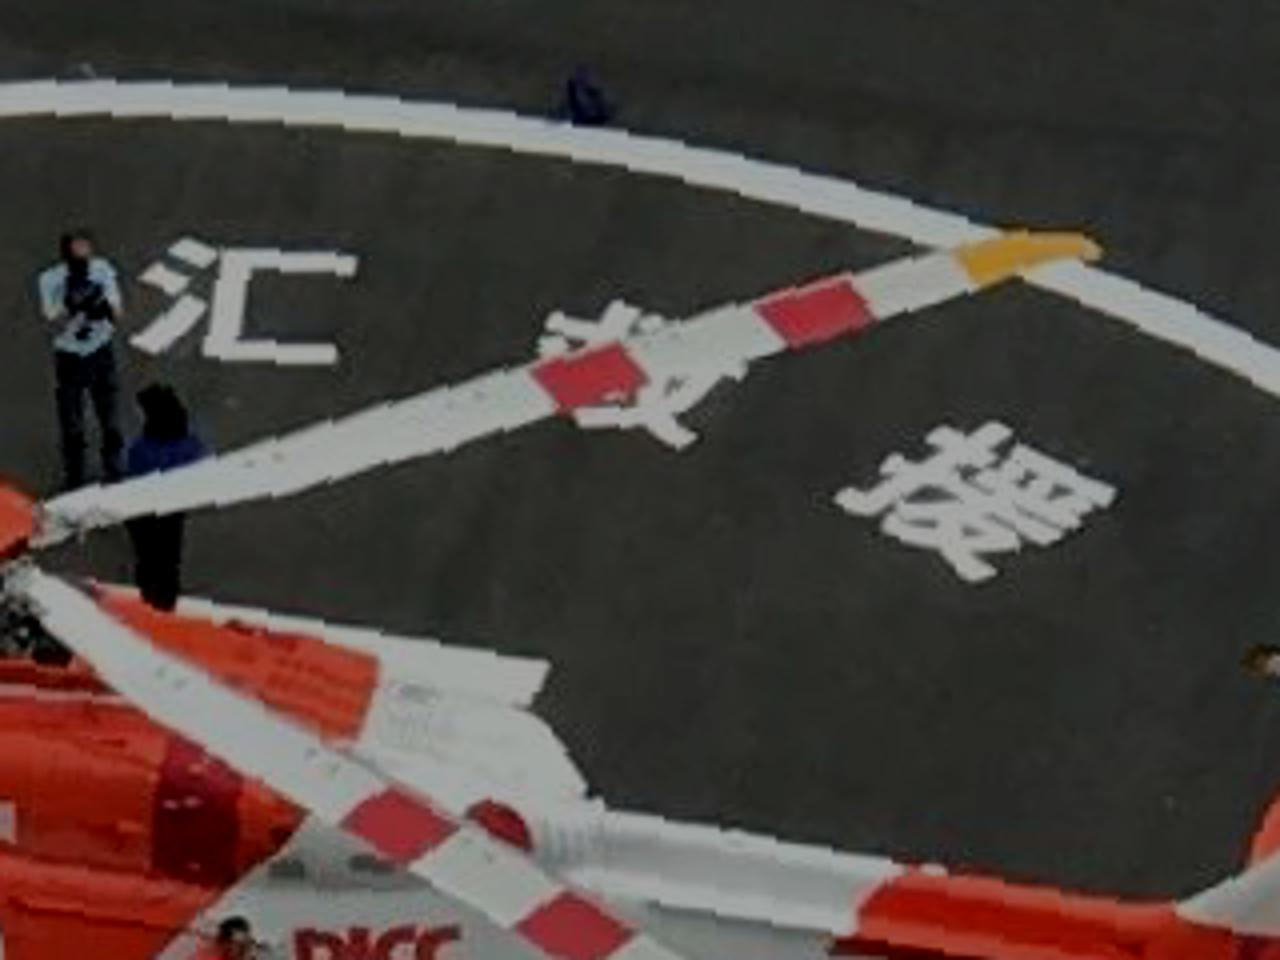Apron: (8, 52, 1280, 926)
